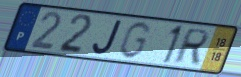1: (161, 25, 185, 65)
2: (57, 13, 94, 56), (27, 10, 62, 51)
G: (117, 21, 153, 61)
J: (91, 18, 124, 56)
R: (170, 27, 212, 65)
